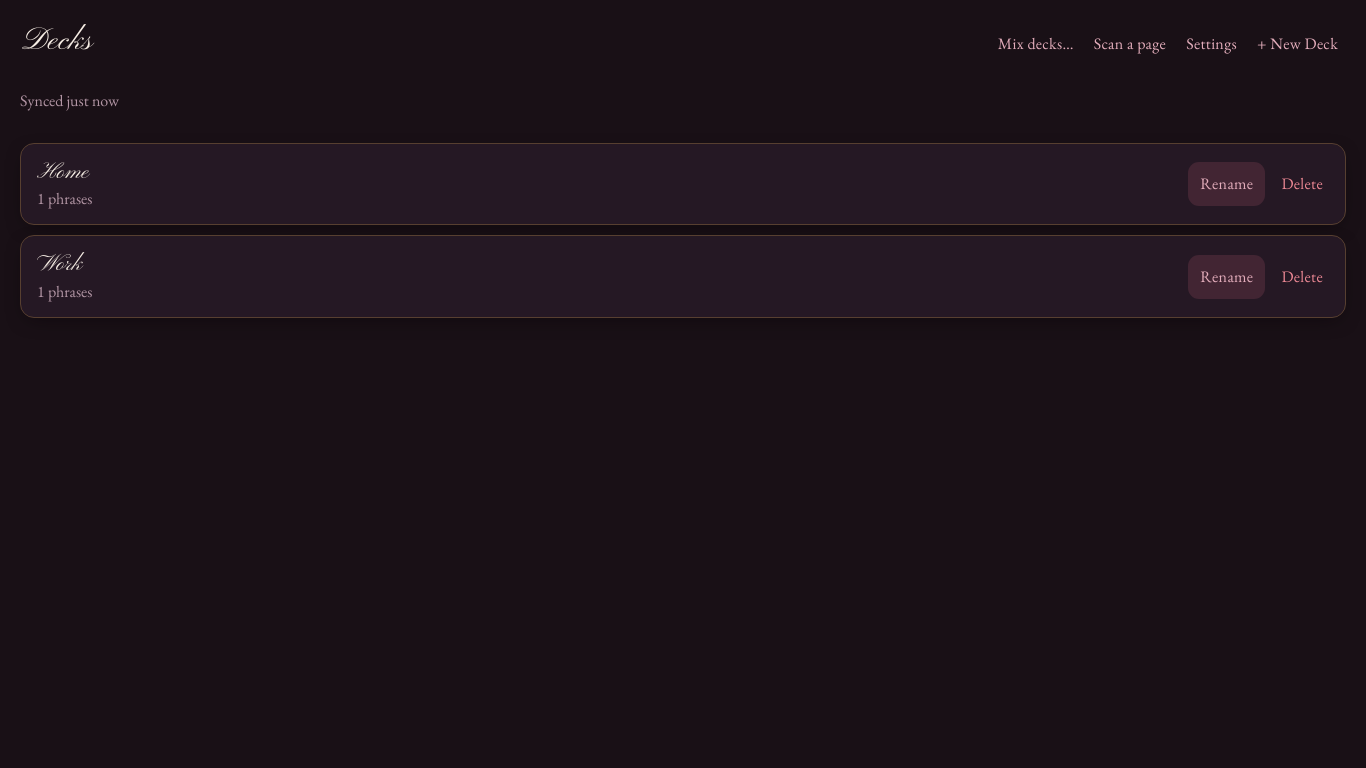
App when a local write fails (T069) › says a Mix could not be deleted, and puts it back on the screen
The image size is (1366, 768).
Click the button with test id "open-mix".
click(1036, 43)  # box x1=990 y1=21 x2=1082 y2=65
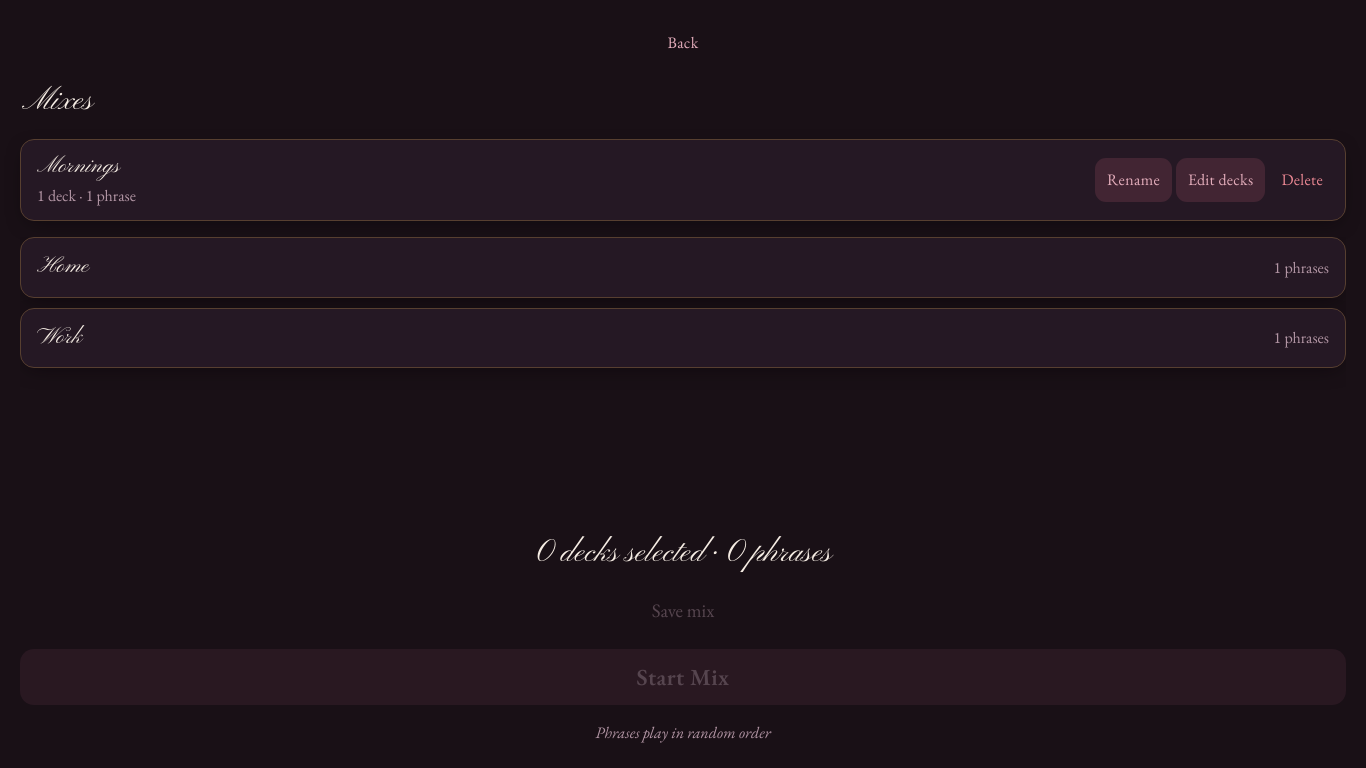
Click the button with test id "delete-mix-m1".
click(1302, 180)  # box x1=1269 y1=158 x2=1335 y2=202
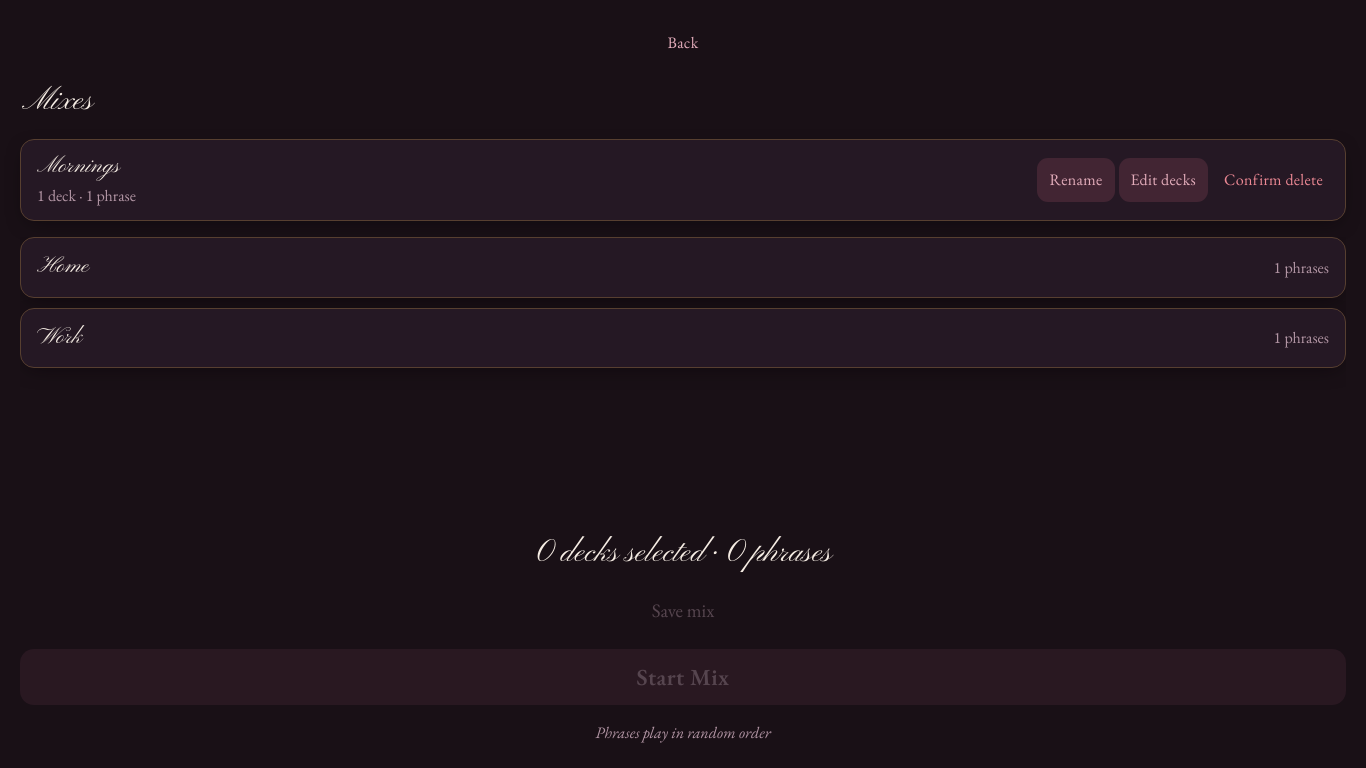
Click the button with test id "delete-mix-m1".
click(1274, 180)  # box x1=1212 y1=158 x2=1335 y2=202
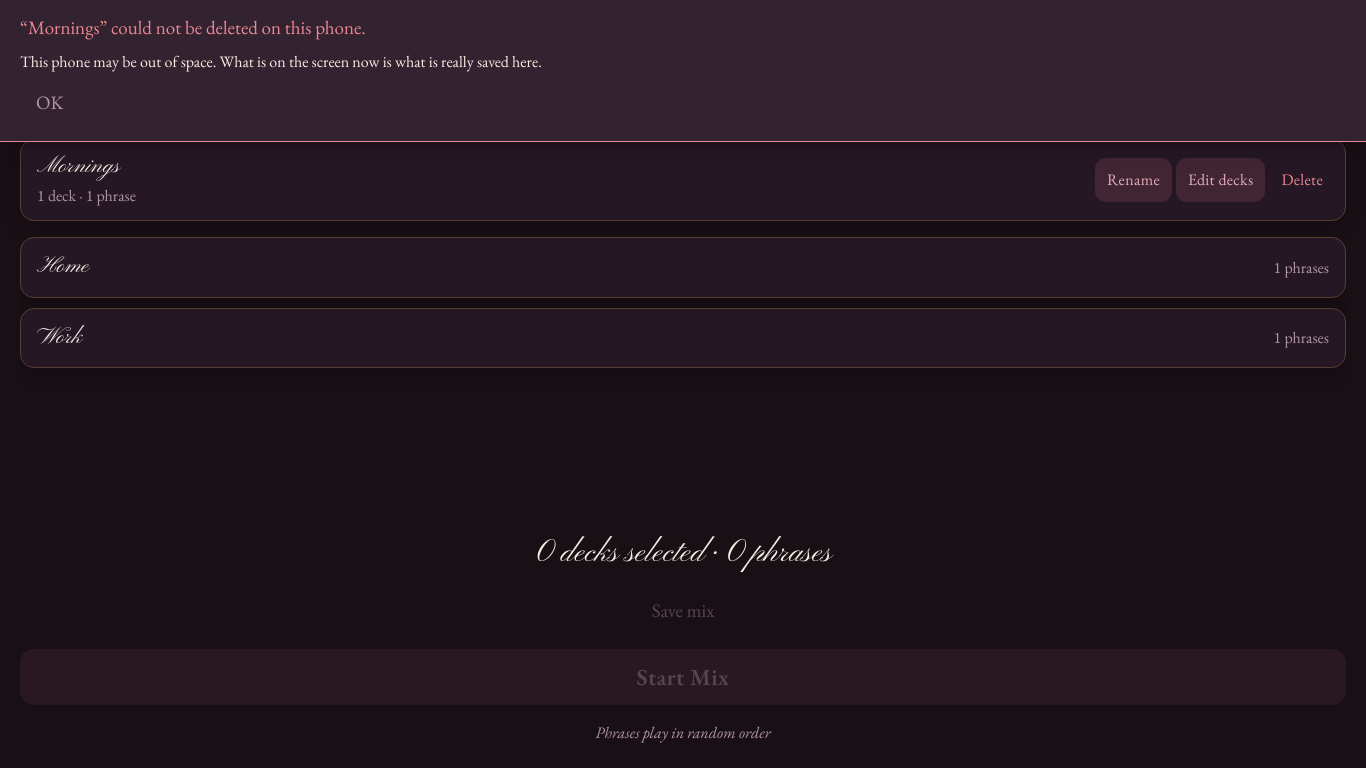
Now the button with test id "mix-row-m1" is shown, box x1=21 y1=140 x2=1087 y2=220
Now the message with test id "write-failure" shows "could not be deleted", box x1=20 y1=15 x2=366 y2=40
